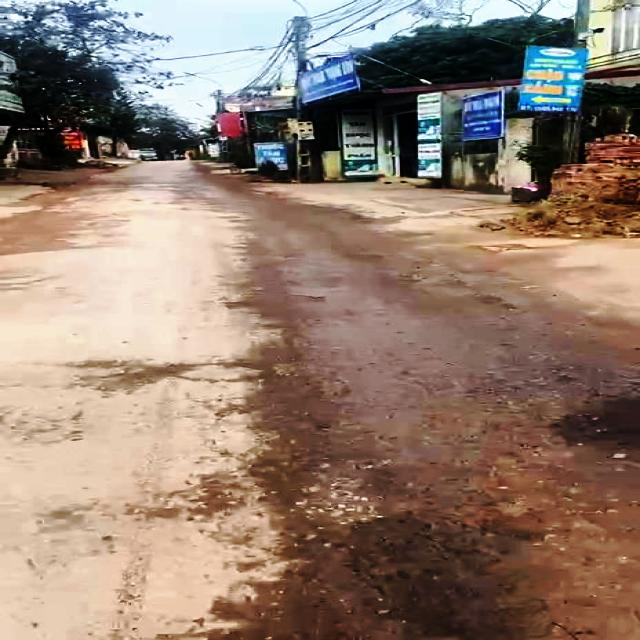pothole: (268, 460, 506, 640), (58, 352, 250, 402)
